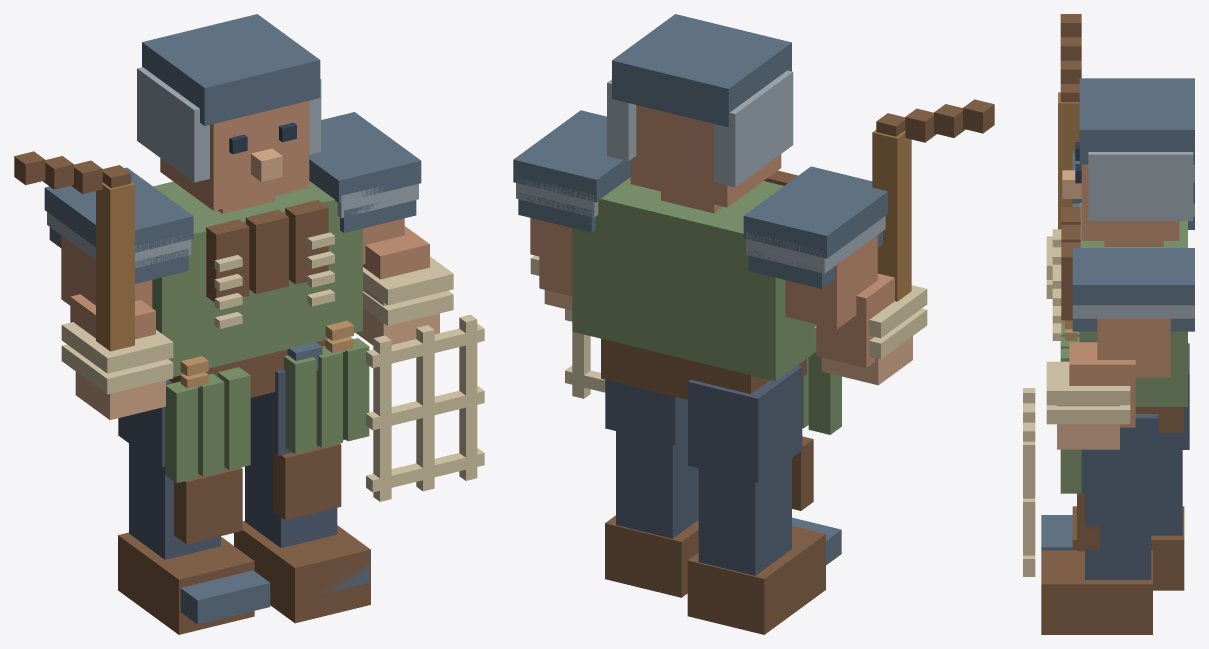
File: arena-q-trapper.glb
3 renders of one model, left to right at view 1: azimuth 30°, elevation 25°; view 2: azimuth 150°, elevation 25°; view 3: azimuth 270°, elevation 25°, orthographic. The views are drawn at different scales.
Parts seen in each view (by area): view 1: Helmet, Boots, Cloth, Shoulders, Skirt, Legs, Net, Weapon, Wraps, Greaves, Head, Vest (+5 smaller); view 2: Cloth, Legs, Shoulders, Helmet, Boots, Arms, Weapon, Head, Belt, Wraps, Skirt, Hands (+2 smaller); view 3: Helmet, Legs, Boots, Shoulders, Arms, Wraps, Weapon, Cloth, Head, Net, Hands, Vest (+5 smaller).
Boxes of the visible parts, left/top/right/bottom form: Helmet: left=137, top=14, right=321, bottom=182; Boots: left=118, top=521, right=370, bottom=634; Cloth: left=152, top=181, right=362, bottom=376; Shoulders: left=44, top=112, right=421, bottom=283; Skirt: left=165, top=338, right=369, bottom=483; Legs: left=118, top=369, right=344, bottom=559; Net: left=366, top=314, right=484, bottom=501; Weapon: left=14, top=151, right=134, bottom=351; Wraps: left=61, top=256, right=453, bottom=394; Greaves: left=174, top=443, right=341, bottom=544; Head: left=160, top=101, right=309, bottom=213; Vest: left=206, top=200, right=328, bottom=302; Cloth: left=572, top=177, right=816, bottom=381; Legs: left=605, top=365, right=802, bottom=575; Shoulders: left=513, top=110, right=887, bottom=288; Helmet: left=607, top=14, right=793, bottom=187; Boots: left=605, top=515, right=841, bottom=634; Arms: left=530, top=218, right=894, bottom=368; Weapon: left=872, top=99, right=994, bottom=301; Head: left=630, top=105, right=781, bottom=213; Belt: left=601, top=338, right=806, bottom=399; Wraps: left=530, top=255, right=927, bottom=359; Skirt: left=802, top=352, right=841, bottom=434; Hands: left=544, top=290, right=912, bottom=385; Helmet: left=1079, top=78, right=1194, bottom=220; Legs: left=1078, top=343, right=1189, bottom=579; Boots: left=1041, top=506, right=1184, bottom=634; Shoulders: left=1072, top=153, right=1194, bottom=331; Arms: left=1069, top=318, right=1170, bottom=427; Wraps: left=1046, top=236, right=1130, bottom=424; Weapon: left=1058, top=14, right=1081, bottom=229; Cloth: left=1079, top=203, right=1187, bottom=406; Head: left=1081, top=164, right=1179, bottom=246; Net: left=1023, top=388, right=1035, bottom=576; Hands: left=1057, top=320, right=1119, bottom=449; Vest: left=1061, top=207, right=1080, bottom=320.
Bounding box in the file's own units: 1.54 × 1.8 × 0.5701.
